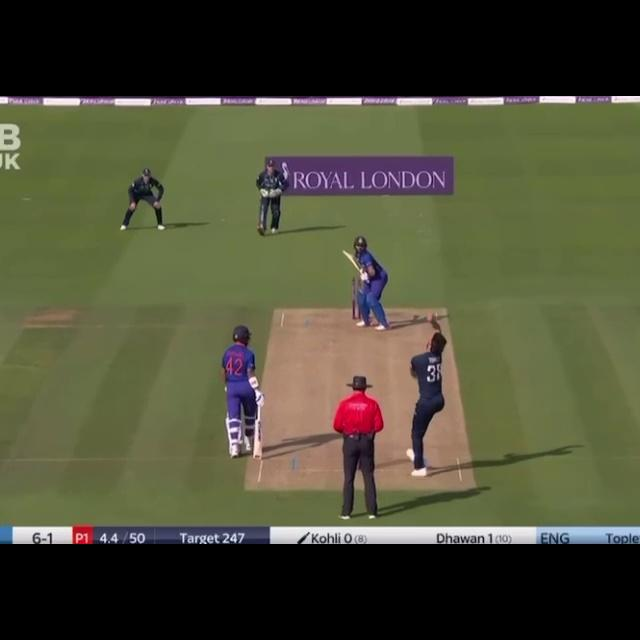umpire: (326, 370, 389, 522)
